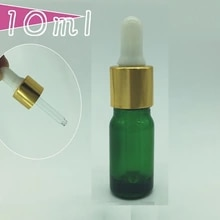glass_bottle: (106, 12, 160, 204)
